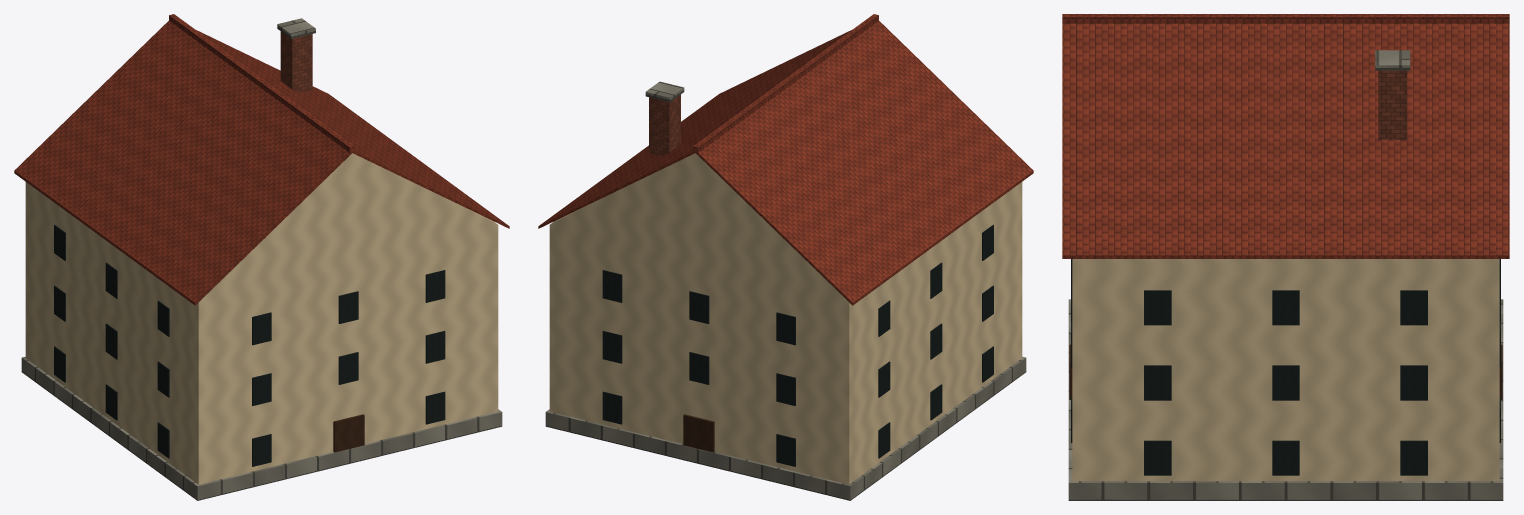
Rendered from SG_House_D_Wide_LOD2.fbx.
3 views of the same model, side by side, from view 1: azimuth 30°, elevation 25°; view 2: azimuth 150°, elevation 25°; view 3: azimuth 270°, elevation 25° (orthographic). The views are drawn at different scales.
Parts seen in each view (by area): view 1: SG_House_D_Wide_Detail2; view 2: SG_House_D_Wide_Detail2; view 3: SG_House_D_Wide_Detail2.
Part boxes in pixels (left/top/right/bottom): SG_House_D_Wide_Detail2: left=14, top=14, right=509, bottom=500; SG_House_D_Wide_Detail2: left=538, top=14, right=1033, bottom=500; SG_House_D_Wide_Detail2: left=1062, top=14, right=1509, bottom=500.
Size of the model in its own units: 29.4 by 28.8 by 29.3.
